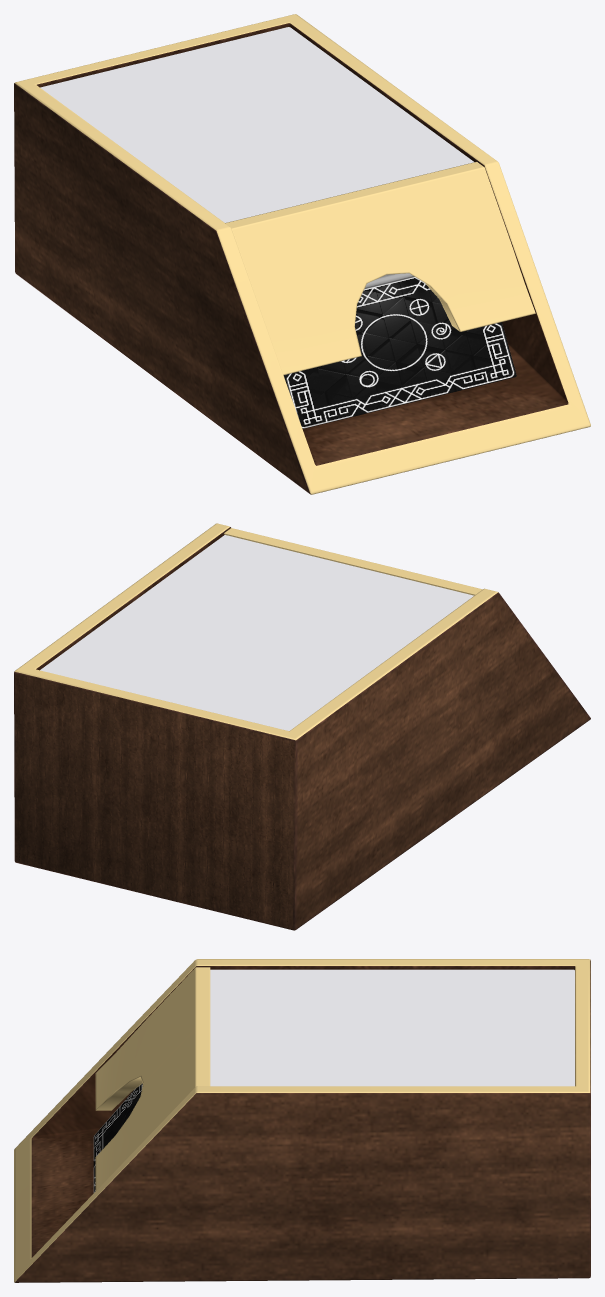
Rendered from BOX_Card.fbx.
3 views of the same model, one above another, from view 1: azimuth 30°, elevation 25°; view 2: azimuth 150°, elevation 25°; view 3: azimuth 270°, elevation 25° (orthographic). The views are drawn at different scales.
Visible parts, largest first — view 1: Boxx, Glass; view 2: Boxx, Glass; view 3: Boxx, Glass.
Boxes of the visible parts, x1,y1,x2,y2 form: Boxx: (14, 14, 590, 494); Glass: (40, 27, 474, 222); Boxx: (14, 523, 590, 930); Glass: (40, 535, 473, 730); Boxx: (14, 959, 590, 1282); Glass: (210, 969, 574, 1086).
Bounding box in the file's own units: 335 × 222 × 608.
Materials: 2 (1 with a texture image).
